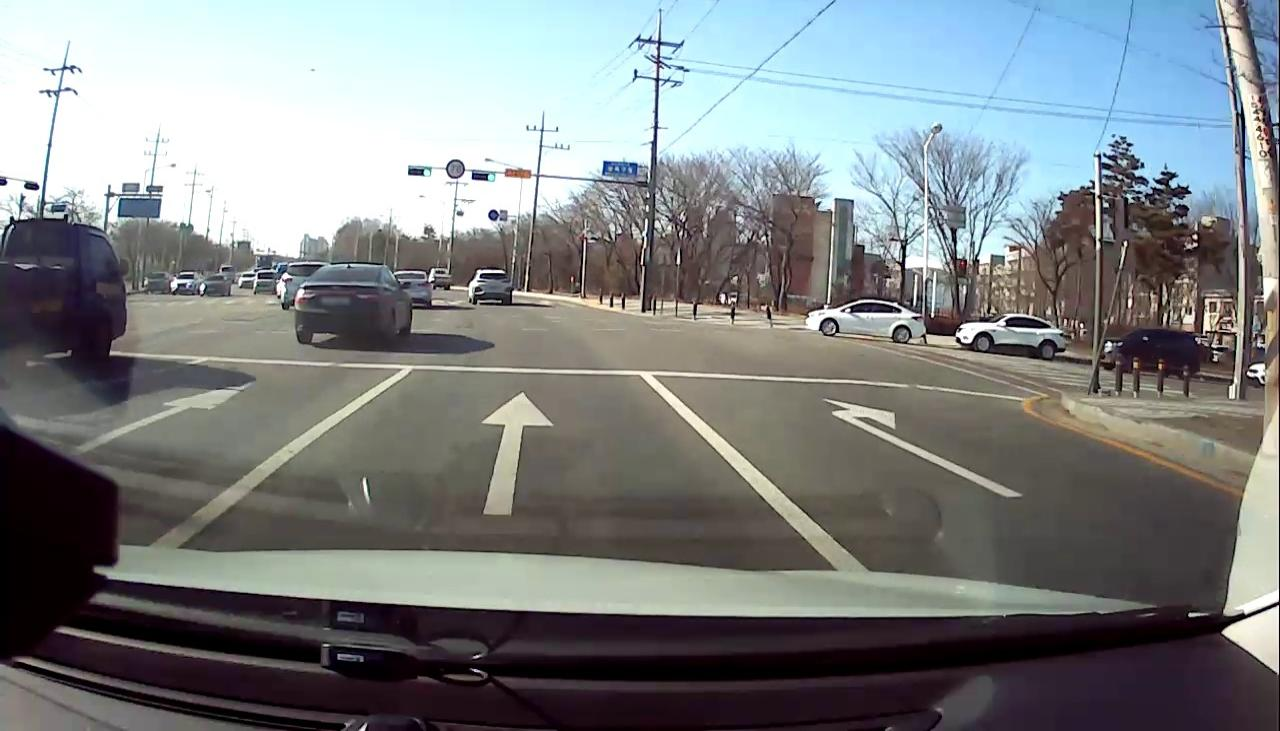Green Light: (422, 167, 431, 177), (486, 173, 496, 182)
